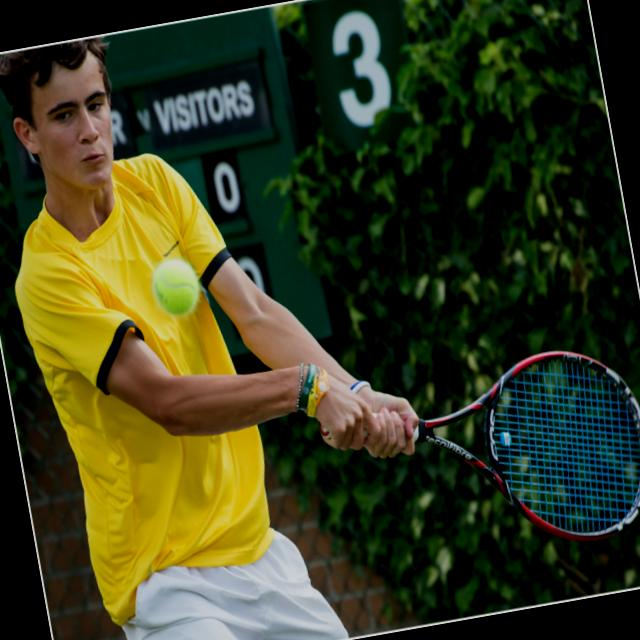Tennis ball: (145, 252, 201, 318)
